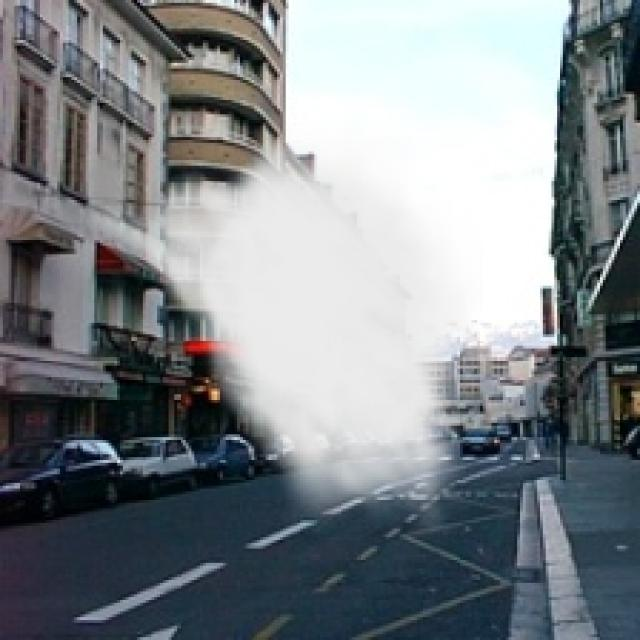smoke: (77, 123, 483, 537)
